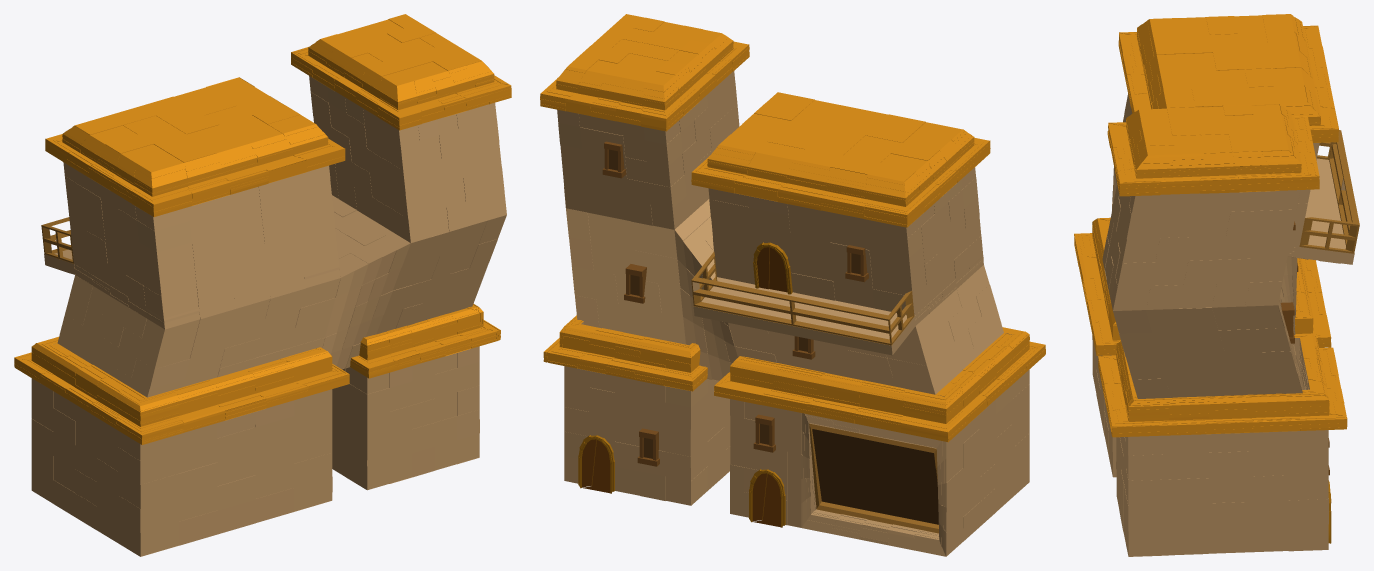
Rendered from Shop_Building_1.fbx.
3 renders of one model, left to right at view 1: azimuth 30°, elevation 25°; view 2: azimuth 150°, elevation 25°; view 3: azimuth 270°, elevation 25°, orthographic. The views are drawn at different scales.
Visible parts, largest first — view 1: Cube.612; view 2: Cube.612, Cube.613, Cube.611, Cube.615, Cube.620, Cube.614, Cube.617, Cube.618, Cube.619; view 3: Cube.612, Cube.620.
Part boxes in pixels (x1,y1,x2,y2): Cube.612: (14,14,511,556); Cube.612: (540,14,1045,556); Cube.613: (578,435,614,493); Cube.611: (749,469,785,527); Cube.615: (753,242,792,294); Cube.620: (624,264,646,303); Cube.614: (637,428,659,466); Cube.617: (753,414,775,452); Cube.618: (845,245,868,282); Cube.619: (602,141,626,178); Cube.612: (1074,14,1359,556); Cube.620: (1280,302,1294,343).
Bounding box in the file's own units: 2219 × 2031 × 1280.
